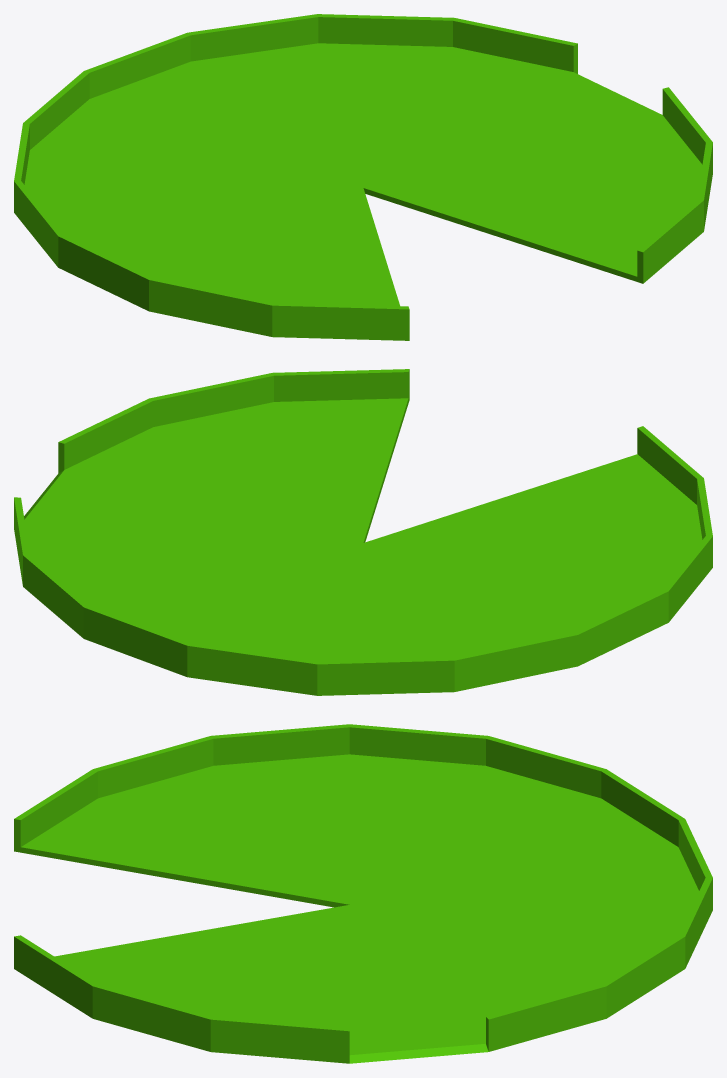
The model's file is lotusleaf_02.fbx.
3 views of the same model, one above another, from view 1: azimuth 30°, elevation 25°; view 2: azimuth 150°, elevation 25°; view 3: azimuth 270°, elevation 25° (orthographic). The views are drawn at different scales.
Parts seen in each view (by area): view 1: Cylinder.001; view 2: Cylinder.001; view 3: Cylinder.001.
Part boxes in pixels (x1=…): Cylinder.001: x1=14, y1=14, x2=712, y2=340; Cylinder.001: x1=14, y1=369, x2=712, y2=695; Cylinder.001: x1=14, y1=724, x2=712, y2=1063.
Size of the model in its own units: 200 by 9.86 by 192.
